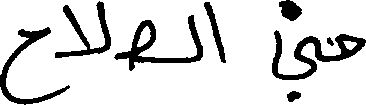ا: (203, 0, 227, 64)
ح: (0, 25, 50, 104), (334, 32, 363, 61)
ص: (130, 17, 156, 71)
ط: (269, 27, 321, 102)
ل: (186, 1, 203, 64)
لا: (55, 0, 110, 63)
